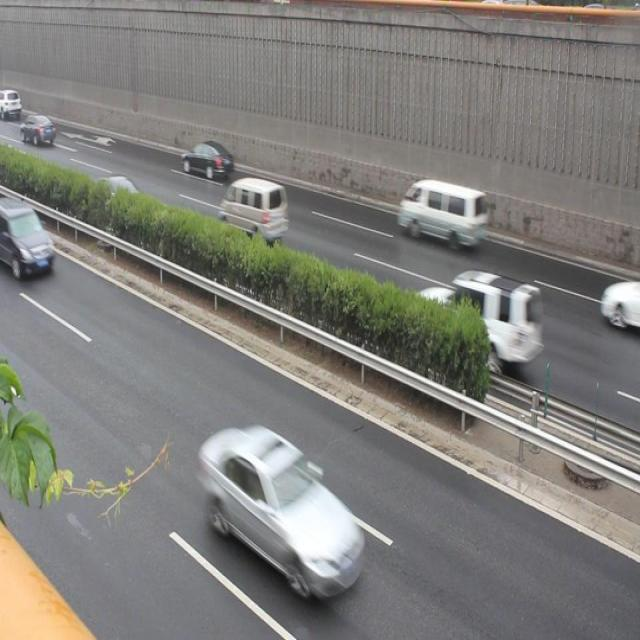car: (201, 424, 364, 591), (408, 270, 540, 372), (89, 172, 144, 224), (181, 137, 233, 181), (602, 281, 640, 335)
truck: (396, 177, 484, 248), (1, 194, 54, 281), (220, 178, 287, 242)
